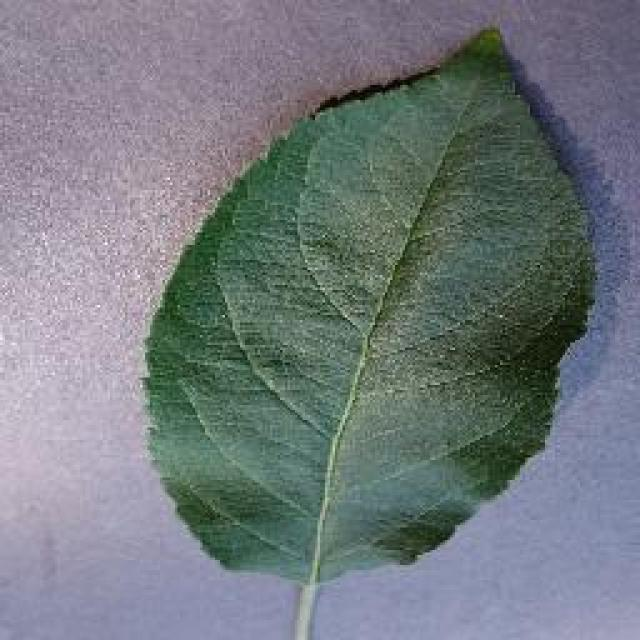apple healthy: (138, 22, 600, 592)
